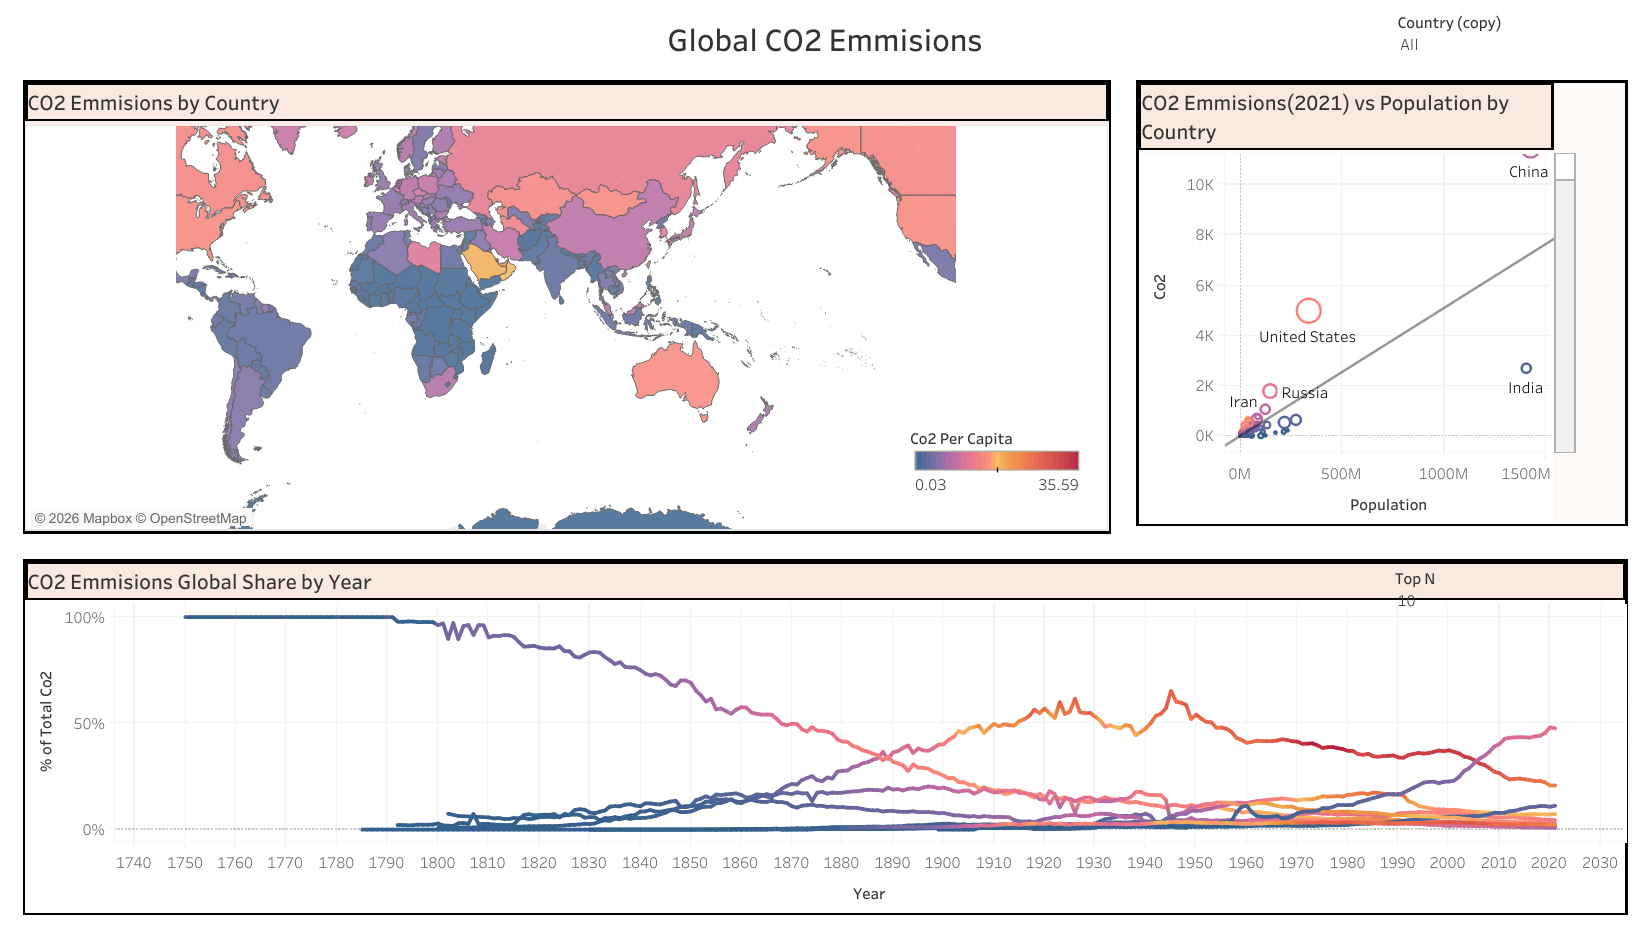

What the dashboard file says about the page in this screenshot:
{"tool":"tableau","page":{"name":"Dashboard 1","canvas":[1000,1000],"units":"permille","ordinal":0},"visuals":[{"type":"title","box":[6.1,10,987.9,57.4]},{"type":"filter","title":"Map","param":"[federated.165f05x0sok0qt15z8s4r0fx2a01].[none:Country (copy)_249274243616307200","box":[847,10,127.3,61.1]},{"type":"worksheet","title":"Map","mark":"Automatic","box":[6.1,67.3,675,514.9]},{"type":"worksheet","title":"Scatter Plot","mark":"Automatic","rows":["co2"],"cols":["population"],"box":[681.1,67.3,312.9,490]},{"type":"legend","title":"Map","param":"[federated.165f05x0sok0qt15z8s4r0fx2a01].[sum:co2_per_capita:qk]","box":[551.5,448.9,106.1,109.7]},{"type":"worksheet","title":"Line Chart","mark":"Automatic","cols":["year"],"box":[6.1,582.3,987.9,407.8]},{"type":"parameter","param":"[Parameters].[Parameter 1]","box":[845.5,602.2,121.2,59.9]}]}

Visuals, with their boxes on the dashboard's canvas, which has no fixed pixel size, in thousandths of its width and height (x1, y1, x2, y2). These are canvas units, not pixel positions in the 1649x936 screenshot, which may show the page scaled, cropped or inside an application window:
title: 6, 10, 994, 67
"Map" filter: 847, 10, 974, 71
"Map" worksheet: 6, 67, 681, 582
"Scatter Plot" worksheet: 681, 67, 994, 557
"Map" legend: 552, 449, 658, 559
"Line Chart" worksheet: 6, 582, 994, 990
parameter: 846, 602, 967, 662
